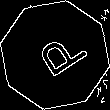P_SW: (23, 26, 87, 84)
